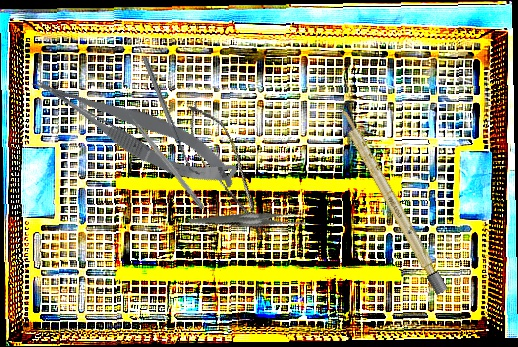Dressing Forceps: (188, 181, 309, 256)
Micro Scissor: (25, 48, 246, 209), (174, 95, 282, 246)
Pusher: (121, 104, 207, 211)
Scalpel Handle: (333, 103, 449, 296)
Spatula Surgical: (142, 53, 200, 179)
